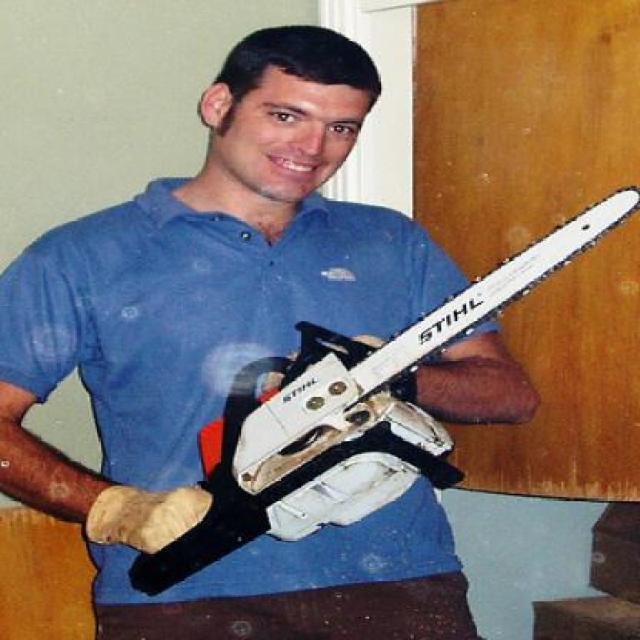Chainsaw: (129, 185, 637, 597)
